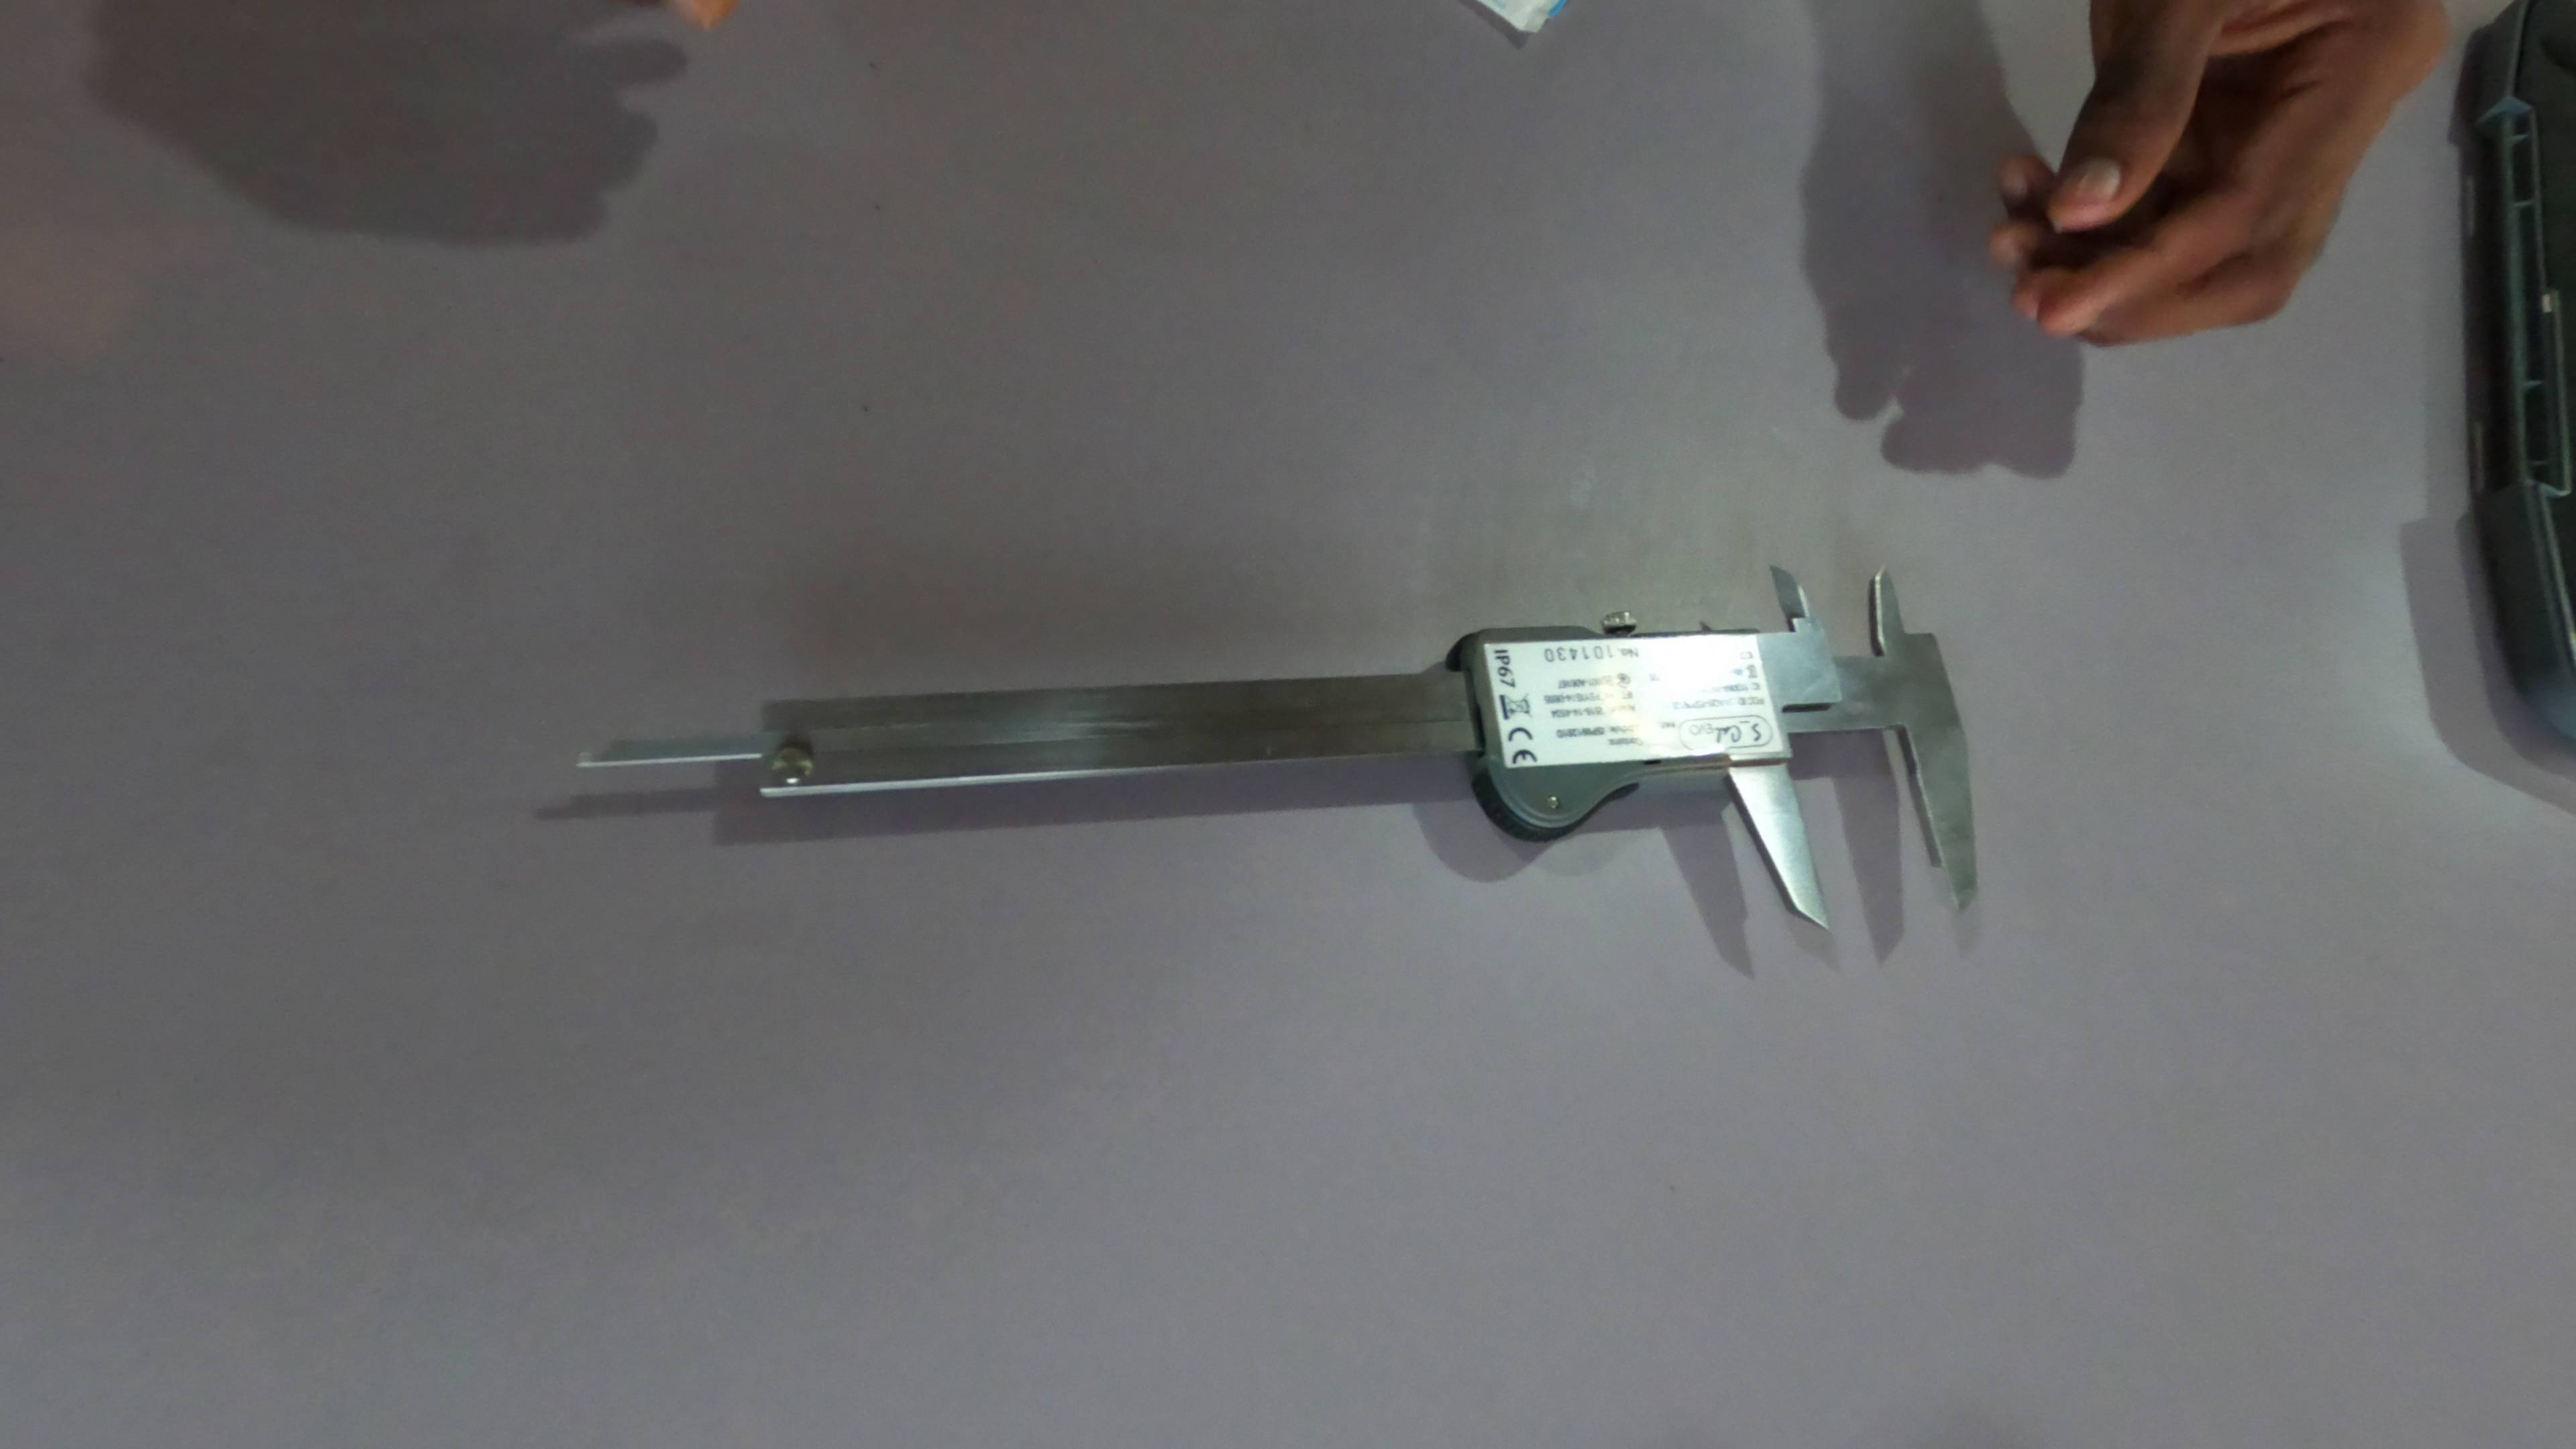vernier_caliper: (571, 545, 1974, 936)
